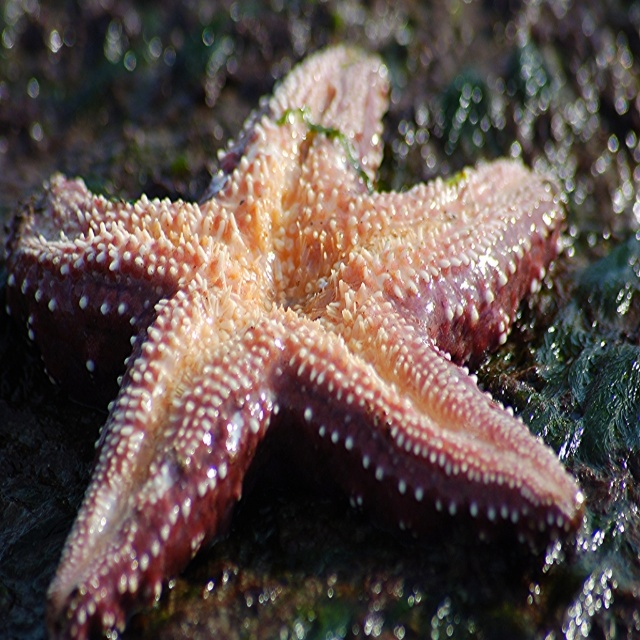Starfish: (6, 45, 584, 640)
